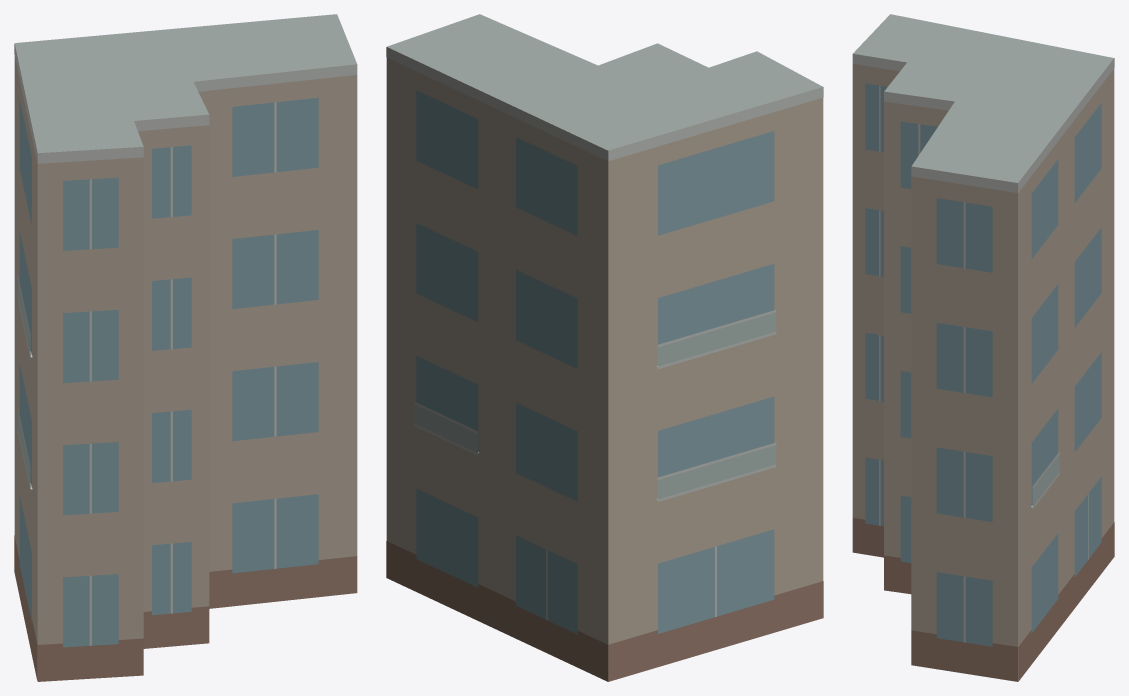
The model's file is survey-upis-32812002.glb.
3 views of the same model, side by side, from view 1: azimuth 30°, elevation 25°; view 2: azimuth 150°, elevation 25°; view 3: azimuth 270°, elevation 25° (orthographic). The views are drawn at different scales.
Visible parts, largest first — view 1: survey-upis-32812002.tmp; view 2: survey-upis-32812002.tmp; view 3: survey-upis-32812002.tmp.
Boxes of the visible parts, x1,y1,x2,y2 form: survey-upis-32812002.tmp: (14, 14, 357, 681); survey-upis-32812002.tmp: (386, 14, 823, 681); survey-upis-32812002.tmp: (852, 14, 1114, 681).
Size of the model in its own units: 8.88 by 12.2 by 5.81.
